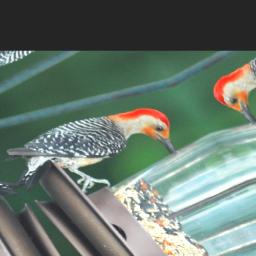Woodpecker: (0, 89, 195, 212)
